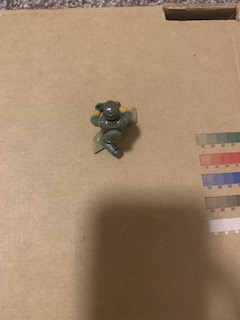soldier: (83, 96, 142, 163)
